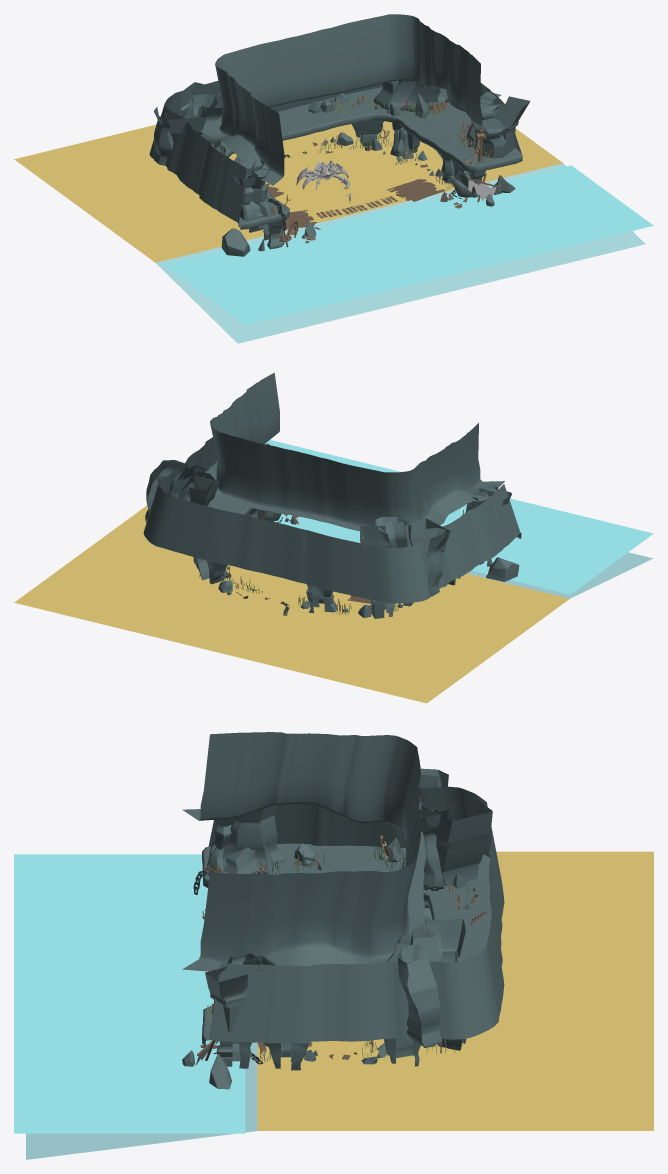
File: Crab_Arena.fbx
3 views of the same model, one above another, from view 1: azimuth 30°, elevation 25°; view 2: azimuth 150°, elevation 25°; view 3: azimuth 270°, elevation 25° (orthographic). The views are drawn at different scales.
Parts seen in each view (by area): view 1: pPlane2, pPlane1, polySurface104, polySurface101, polySurface103, Stone44, Stone39, Stone43, Stone34, Crab, Piece6, Stone21 (+3 smaller); view 2: pPlane2, polySurface103, polySurface104, pPlane1, Stone44, Stone43, Stone17, Stone18, Rock64; view 3: pPlane2, pPlane1, polySurface104, polySurface103, polySurface101, Stone43, Stone44, Stone34, Stone39, Stone23, Stone25, Stone21.
Part boxes in pixels (box(x1,y1,x2,y2)): pPlane2: box(14, 121, 645, 343); pPlane1: box(164, 165, 653, 325); polySurface104: box(200, 14, 506, 185); polySurface101: box(220, 87, 522, 229); polySurface103: box(149, 81, 521, 222); Stone44: box(153, 82, 222, 165); Stone39: box(471, 92, 530, 158); Stone43: box(374, 80, 448, 111); Stone34: box(232, 156, 273, 220); Crab: box(296, 160, 349, 189); Piece6: box(387, 179, 445, 201); Stone21: box(390, 122, 420, 156); pPlane2: box(14, 505, 653, 703); polySurface103: box(143, 437, 520, 603); polySurface104: box(205, 372, 504, 538); pPlane1: box(264, 440, 653, 594); Stone44: box(360, 517, 450, 596); Stone43: box(145, 460, 219, 522); Stone17: box(306, 584, 336, 613); Stone18: box(193, 557, 227, 584); Rock64: box(486, 557, 519, 581); pPlane2: box(26, 851, 653, 1159); pPlane1: box(14, 854, 245, 1133); polySurface104: box(182, 732, 425, 971); polySurface103: box(208, 786, 504, 1043); polySurface101: box(202, 843, 491, 1048); Stone43: box(387, 919, 465, 1047); Stone44: box(403, 768, 492, 887); Stone34: box(207, 805, 285, 873); Stone39: box(205, 952, 275, 1032); Stone23: box(263, 1042, 309, 1070); Stone25: box(216, 1041, 251, 1068); Stone21: box(383, 1038, 420, 1066).
Bounding box in the file's own units: 8764 × 3183 × 8409.
